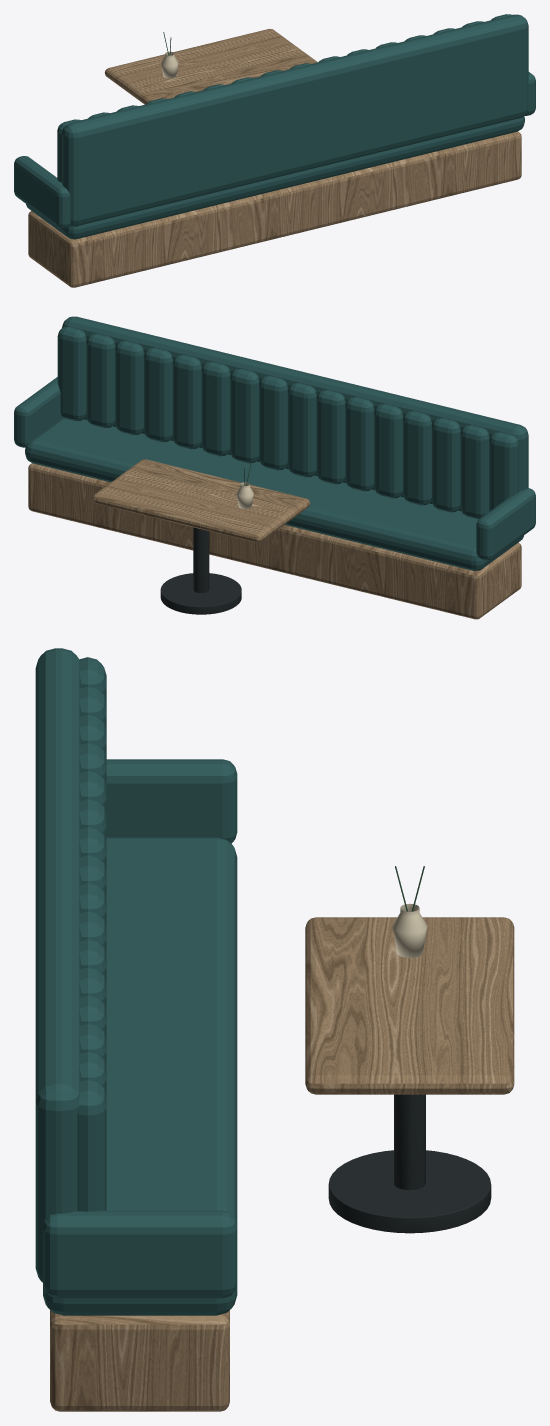
File: modern-bar-booth.glb
The picture shows the model from 3 angles, top to bottom: view 1: azimuth 30°, elevation 25°; view 2: azimuth 150°, elevation 25°; view 3: azimuth 270°, elevation 25°; orthographic projection. The views are drawn at different scales.
Parts seen in each view (by area): view 1: modern-bar-booth - Modern Bar petrol leather booth upholster, modern-bar-booth - Modern Bar satin walnut joinery runtime P, modern-bar-booth - Modern Bar ivory ceramic runtime PBR; view 2: modern-bar-booth - Modern Bar petrol leather booth upholster, modern-bar-booth - Modern Bar satin walnut joinery runtime P, modern-bar-booth - Modern Bar powder coated charcoal steel r, modern-bar-booth - Modern Bar ivory ceramic runtime PBR; view 3: modern-bar-booth - Modern Bar petrol leather booth upholster, modern-bar-booth - Modern Bar satin walnut joinery runtime P, modern-bar-booth - Modern Bar powder coated charcoal steel r, modern-bar-booth - Modern Bar ivory ceramic runtime PBR.
Part boxes in pixels (box(x1,y1,x2,y2)): modern-bar-booth - Modern Bar petrol leather booth upholster: box(14, 14, 535, 239); modern-bar-booth - Modern Bar satin walnut joinery runtime P: box(28, 28, 521, 287); modern-bar-booth - Modern Bar ivory ceramic runtime PBR: box(161, 51, 178, 78); modern-bar-booth - Modern Bar petrol leather booth upholster: box(14, 316, 535, 570); modern-bar-booth - Modern Bar satin walnut joinery runtime P: box(28, 459, 521, 619); modern-bar-booth - Modern Bar powder coated charcoal steel r: box(160, 527, 241, 614); modern-bar-booth - Modern Bar ivory ceramic runtime PBR: box(236, 482, 253, 509); modern-bar-booth - Modern Bar petrol leather booth upholster: box(35, 648, 237, 1315); modern-bar-booth - Modern Bar satin walnut joinery runtime P: box(50, 917, 514, 1411); modern-bar-booth - Modern Bar powder coated charcoal steel r: box(328, 1094, 491, 1233); modern-bar-booth - Modern Bar ivory ceramic runtime PBR: box(392, 903, 427, 957).
Size of the model in its own units: 3.81 by 1.25 by 1.65.
5 materials, 1 textured.
